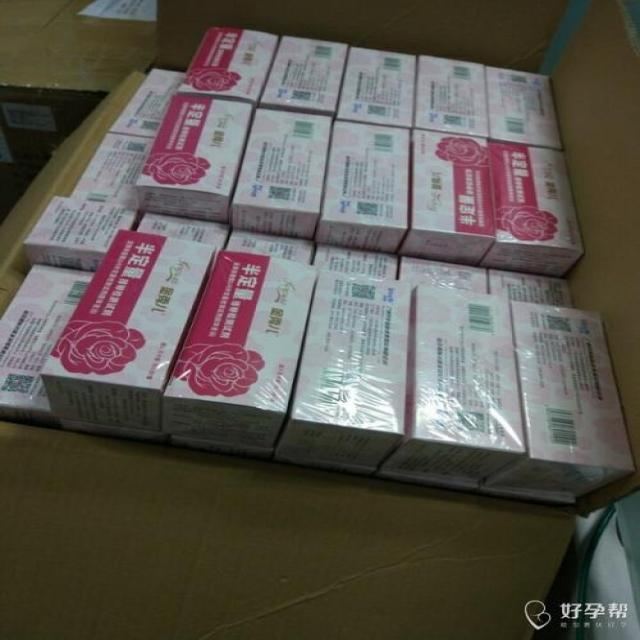box: (42, 229, 219, 431), (158, 249, 319, 447), (484, 298, 635, 498), (379, 284, 527, 481), (275, 267, 412, 466), (134, 90, 254, 223), (0, 264, 96, 429), (478, 138, 588, 278), (228, 103, 335, 240), (396, 125, 496, 267), (314, 117, 412, 254), (24, 195, 136, 273), (178, 27, 283, 103), (69, 131, 155, 212), (261, 35, 349, 113), (334, 45, 416, 127), (413, 55, 491, 137), (488, 66, 564, 149), (109, 67, 188, 135), (127, 211, 228, 250), (222, 224, 316, 265), (397, 255, 491, 295), (311, 240, 401, 280), (490, 269, 576, 309)
